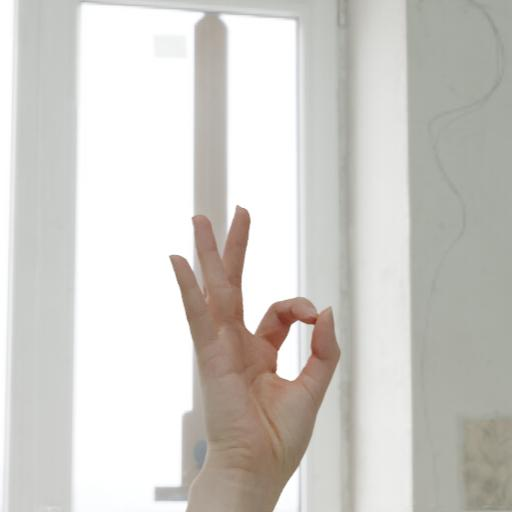F: (161, 181, 352, 512)
